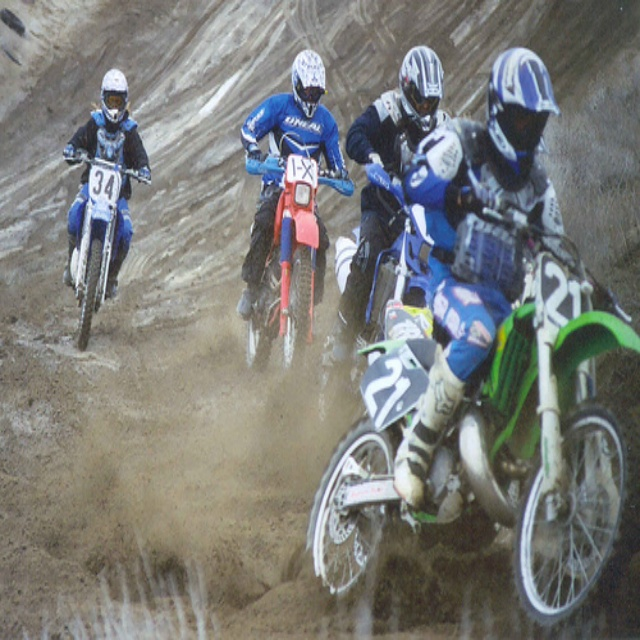Motorcycle: (307, 206, 640, 623), (243, 152, 352, 369), (61, 146, 152, 350)
